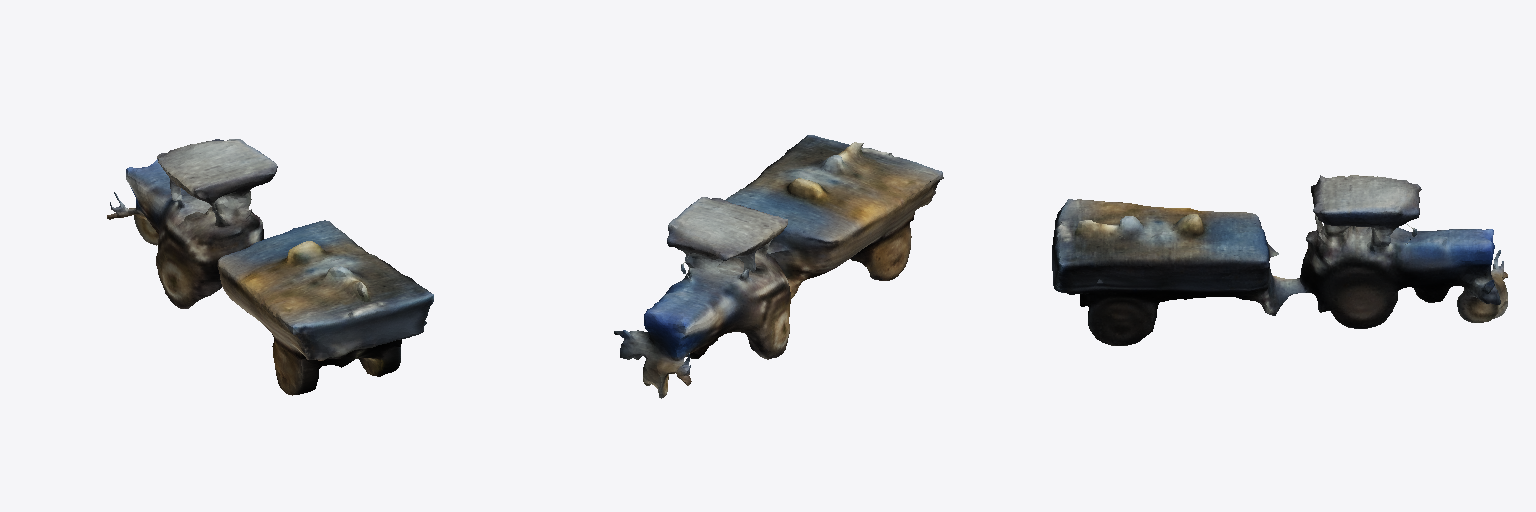
The picture shows the model from 3 angles: view 1: azimuth 30°, elevation 25°; view 2: azimuth 150°, elevation 25°; view 3: azimuth 270°, elevation 25°; orthographic projection.
Bounding box in the file's own units: 0.3677 × 0.342 × 1.04.
Materials: 1 (1 with a texture image).